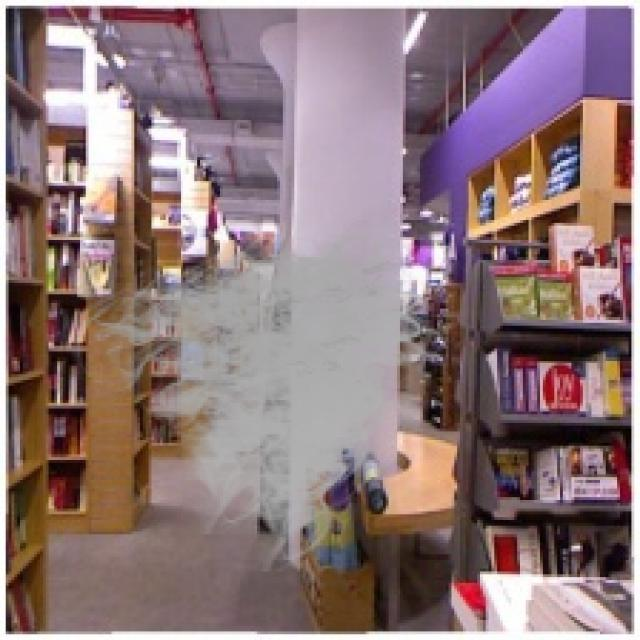smoke: (60, 212, 460, 572)
